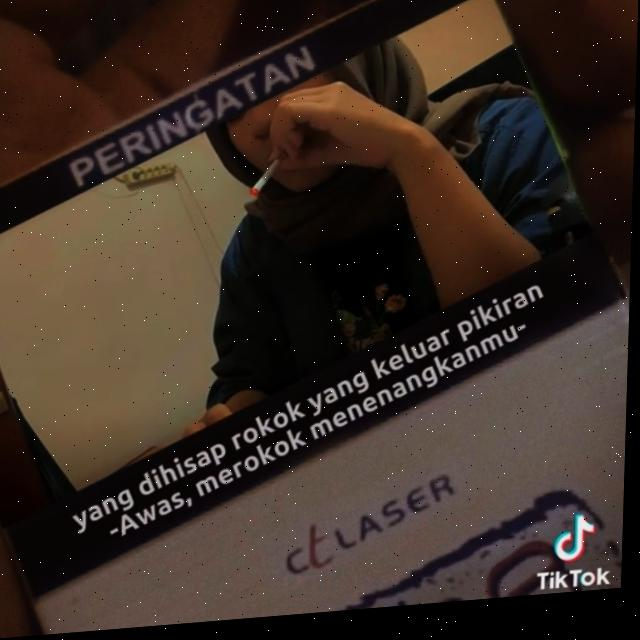cigarette: (250, 164, 282, 201)
